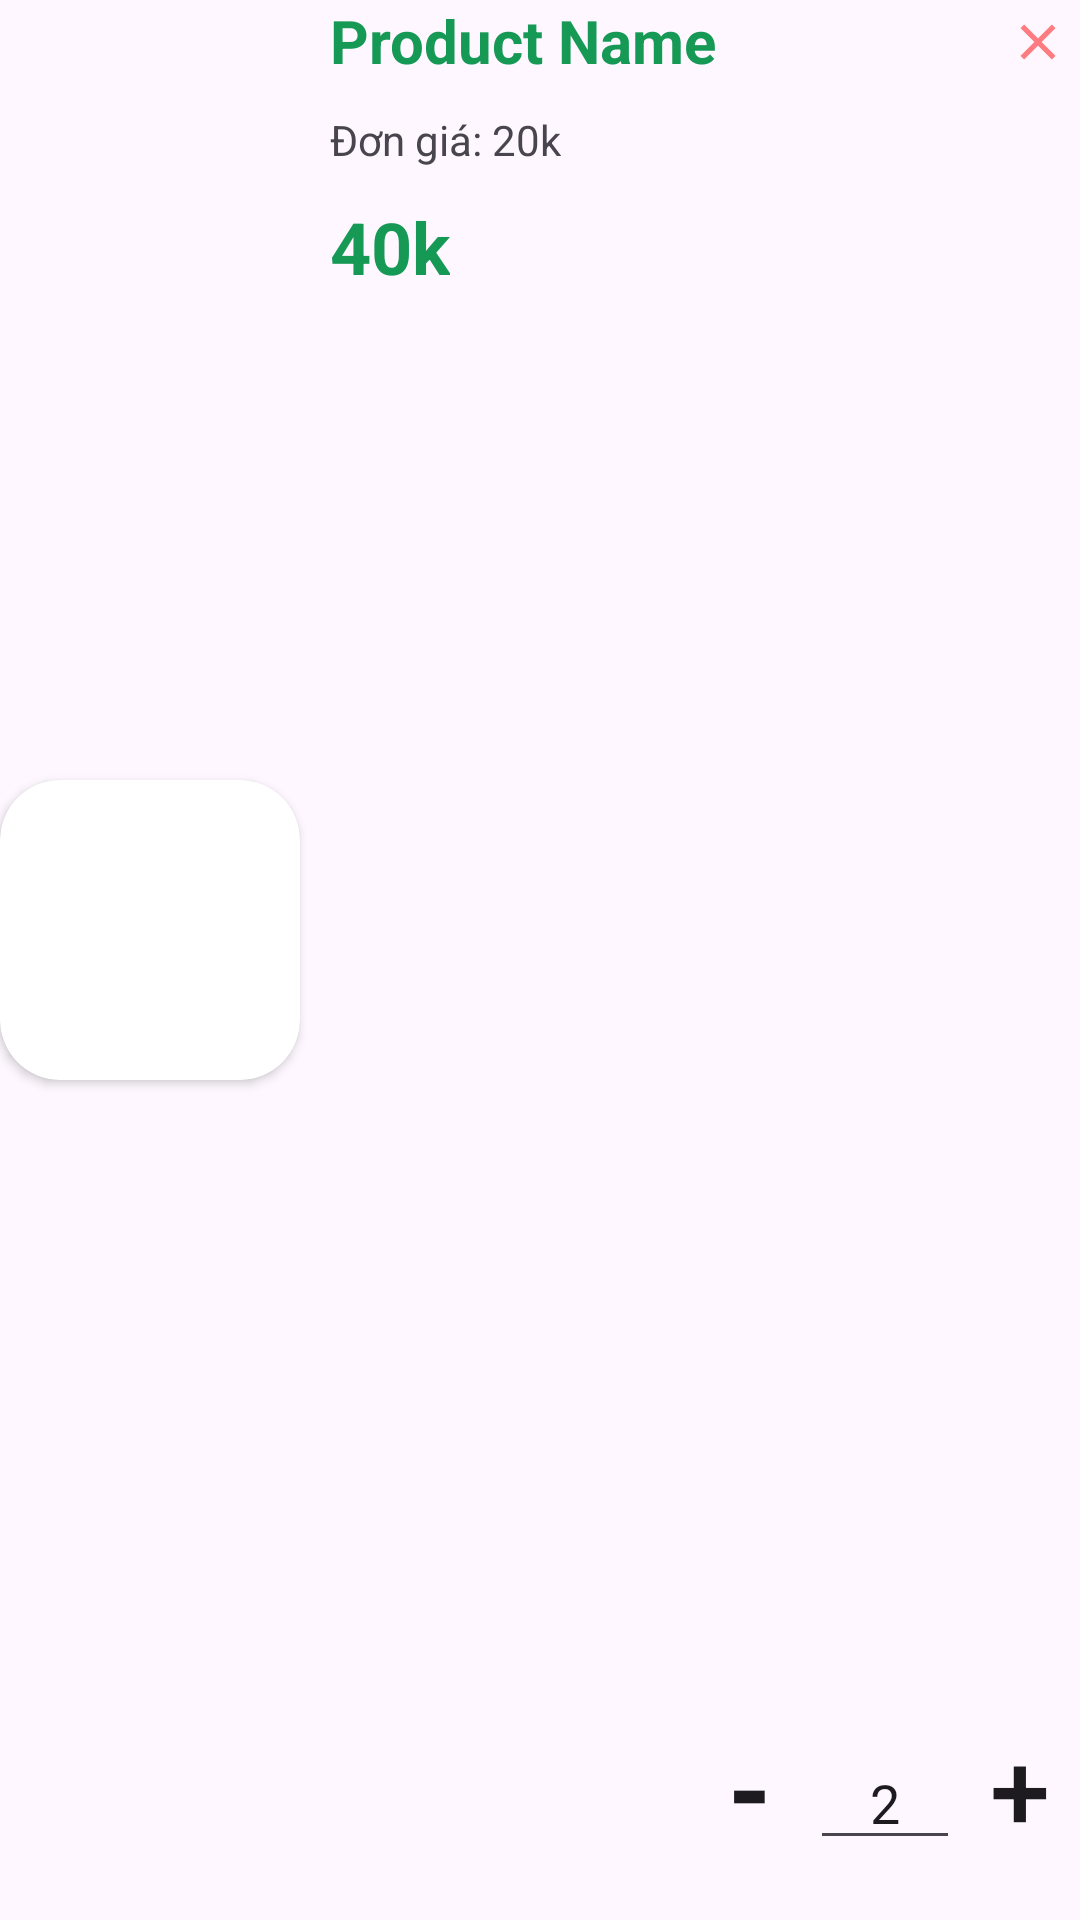

Icon click points for this 1080x1920 phone screenshot, format [x,y]:
close: [1038,42]
